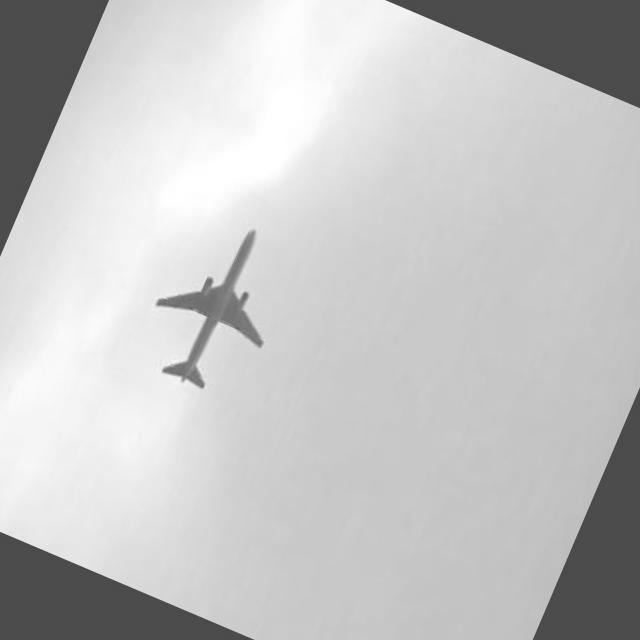aeroplane: (129, 203, 303, 404)
